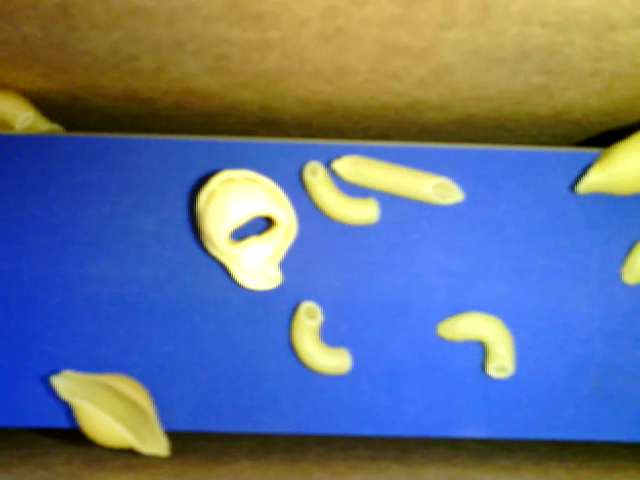elbow: (434, 307, 515, 379), (301, 157, 382, 224), (289, 300, 354, 377), (1, 89, 35, 132)
penne: (328, 151, 464, 207)
shell: (48, 366, 171, 459), (571, 128, 639, 199), (1, 93, 62, 131)
tortellini: (193, 168, 298, 294)
